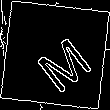M_NW: (21, 21, 89, 89)
